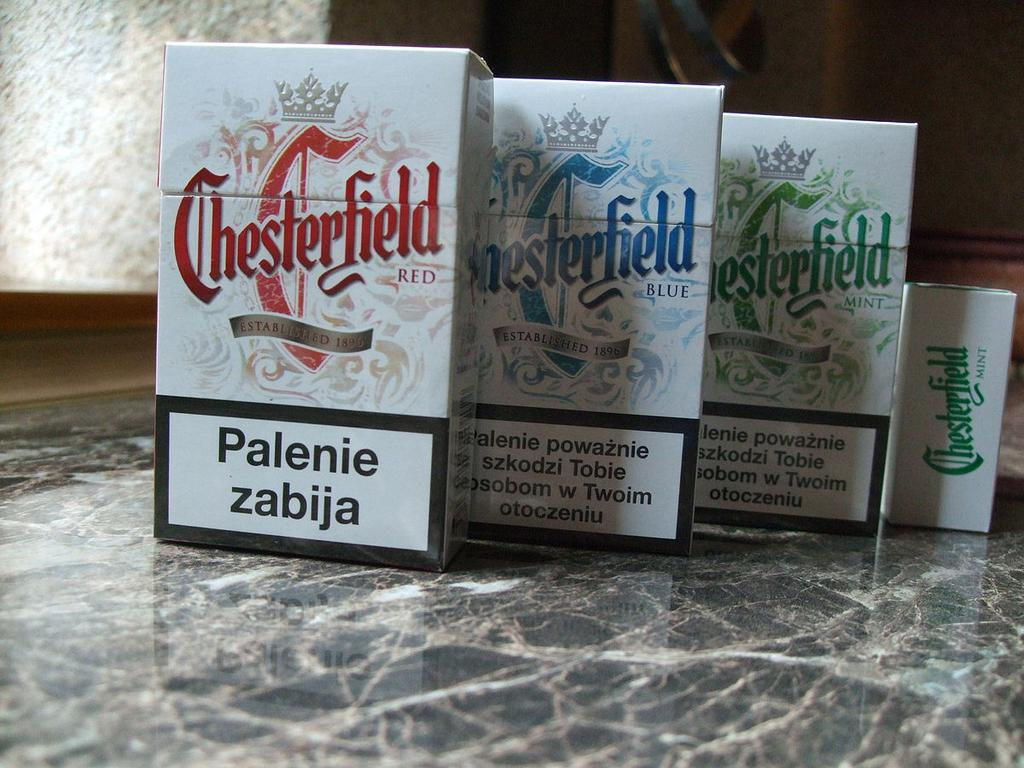chesterfield_blue: (467, 85, 698, 542)
chesterfield_red: (158, 49, 446, 542)
